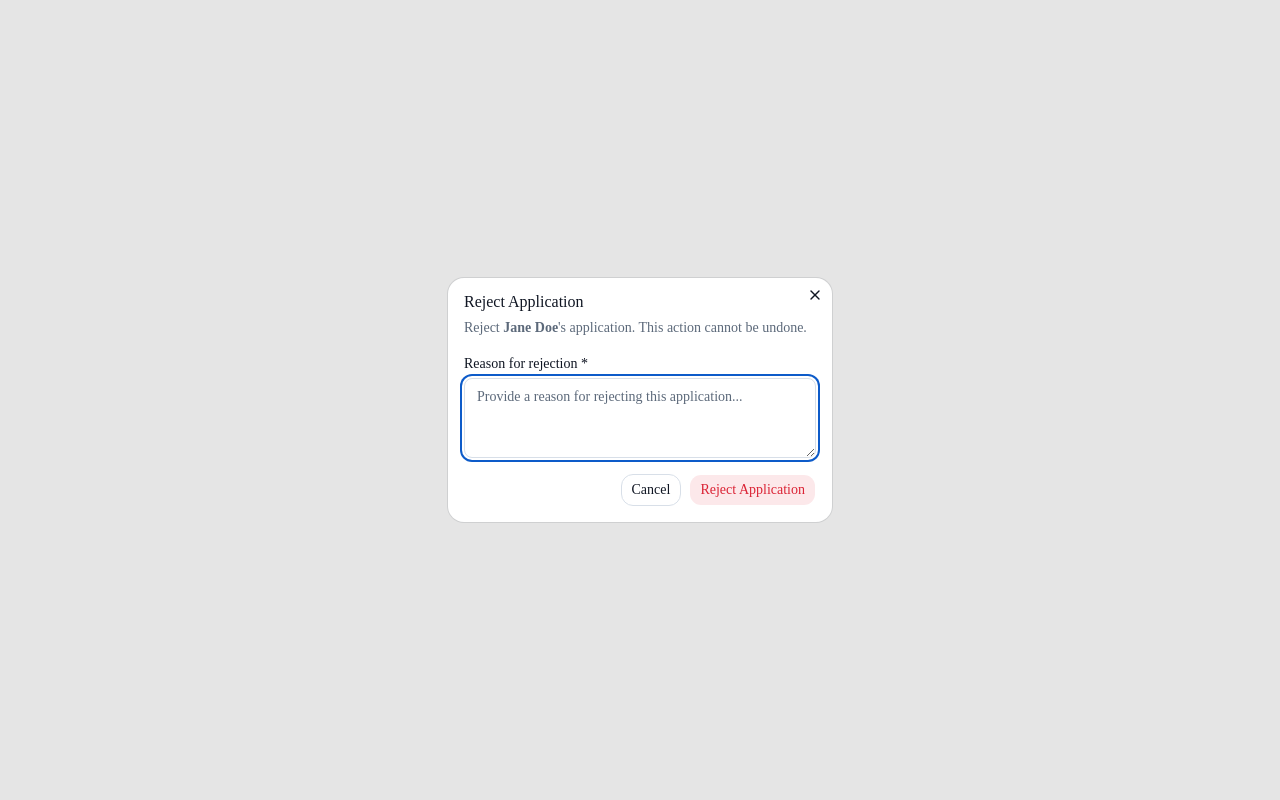
Test case: FE-REC-001 — Recruitment Kanban drag-and-drop › RejectModal — reason is required › blocks submission when reason is empty
What coordinates should you click on to do the following:
click the button with test id "confirm-reject-btn"
I would click on:
 (753, 490)
Its box is [689, 474, 816, 506].
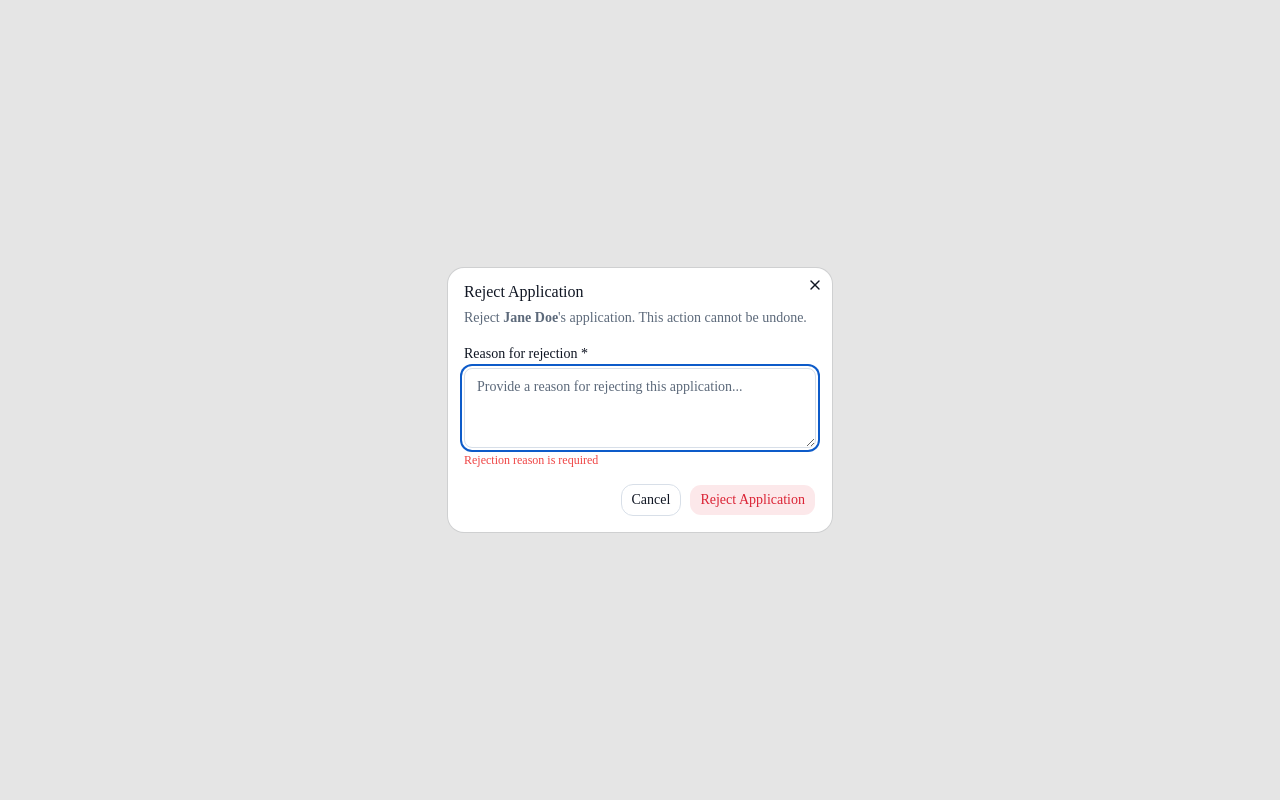
Expected: the message "Rejection reason is required" is shown, [464, 453, 598, 467]
